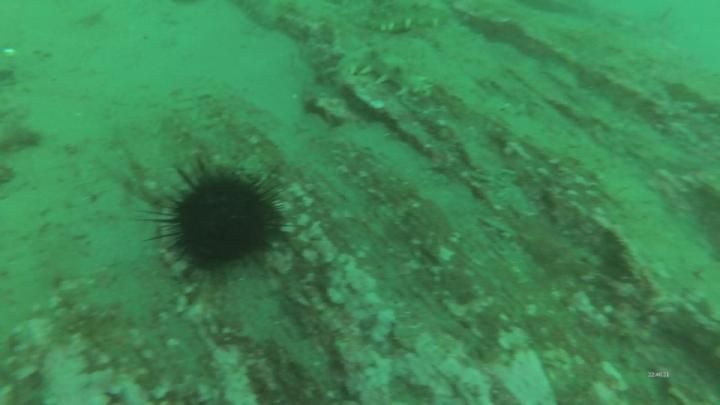echinus: (148, 154, 287, 286)
holothurian: (336, 45, 431, 108), (363, 7, 455, 38)
